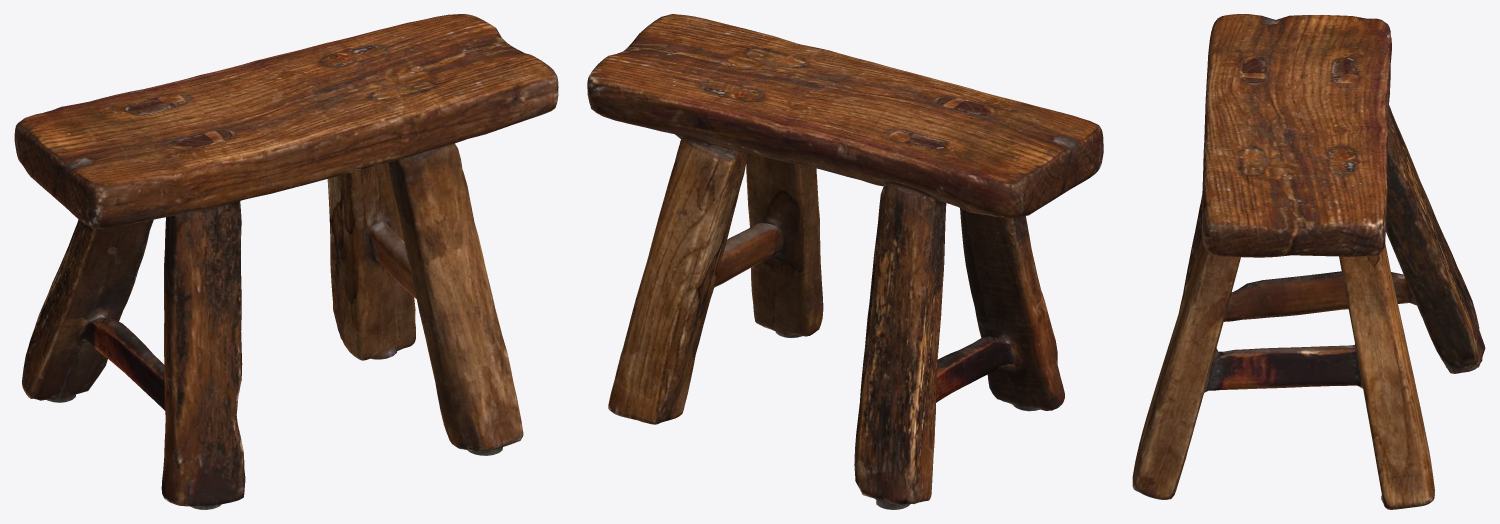
Rendered from wooden_stool_02.glb.
The picture shows the model from 3 angles, left to right: view 1: azimuth 30°, elevation 25°; view 2: azimuth 150°, elevation 25°; view 3: azimuth 270°, elevation 25°; orthographic projection. The views are drawn at different scales.
Parts seen in each view (by area): view 1: wooden_stool_02; view 2: wooden_stool_02; view 3: wooden_stool_02.
Part boxes in pixels (box(x1,y1,x2,y2)): wooden_stool_02: box(14, 14, 558, 509); wooden_stool_02: box(587, 14, 1103, 509); wooden_stool_02: box(1132, 14, 1485, 509).
Bounding box in the file's own units: 0.2652 × 0.1819 × 0.1831.
1 material, 1 textured.
